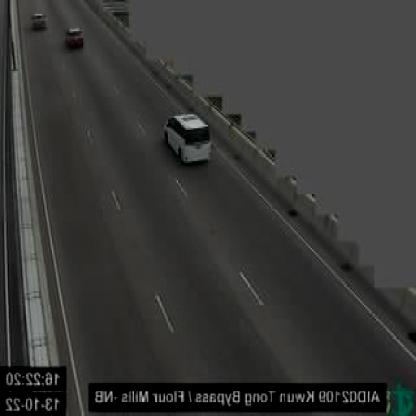Car: (162, 112, 214, 166), (64, 27, 83, 50), (30, 12, 46, 32)
